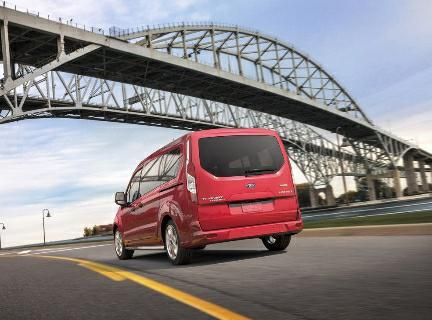福特-Ranger: (108, 124, 308, 263)
